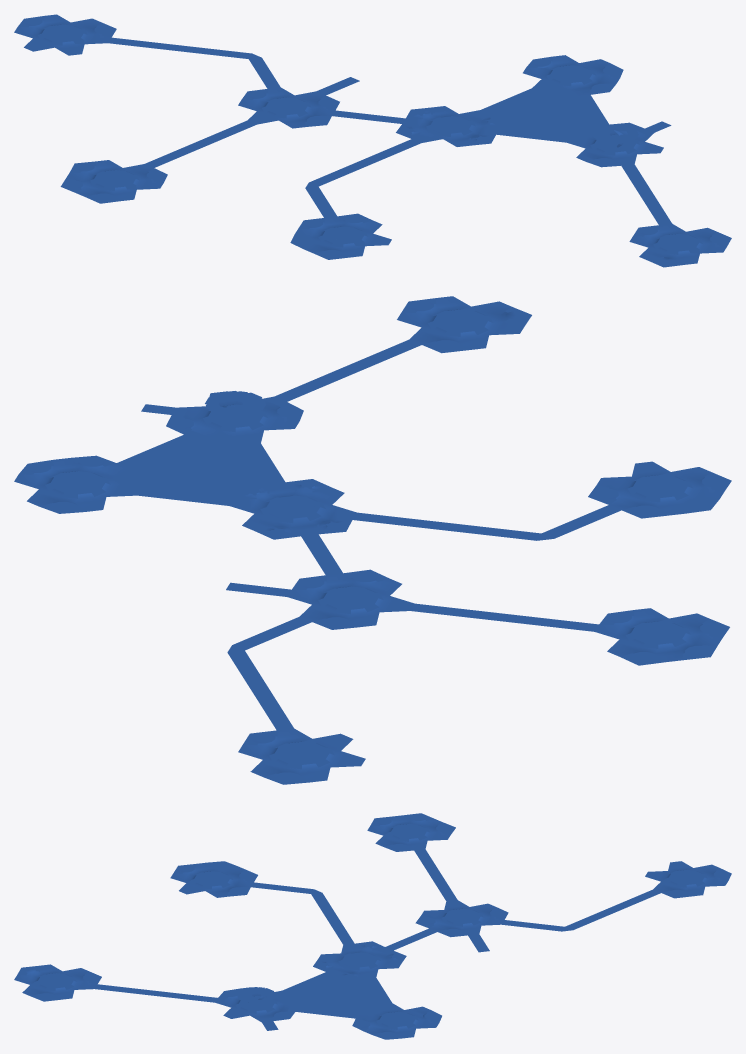
The model's file is villagea_collision.max.fbx.
3 renders of one model, top to bottom at view 1: azimuth 30°, elevation 25°; view 2: azimuth 150°, elevation 25°; view 3: azimuth 270°, elevation 25°, orthographic. The views are drawn at different scales.
Parts seen in each view (by area): view 1: col_externe, col_mairie01, col_appart03, col_appart02, col_appart01, col_bar02, col_bar01, col_appart04, Object01, col_agora01, col_pont13, col_pont12 (+5 smaller); view 2: col_externe, col_mairie01, col_appart03, col_appart02, col_appart01, col_bar02, col_bar01, col_appart04, col_agora01, Object01, col_pont13, col_pont12 (+4 smaller); view 3: col_externe, col_mairie01, col_appart03, col_appart02, col_appart01, col_bar02, col_bar01, col_appart04, col_agora01, Object01, col_pont13, col_pont12 (+1 smaller).
Part boxes in pixels (bbox=[...]): col_externe: bbox=[16, 15, 731, 267]; col_mairie01: bbox=[399, 106, 502, 146]; col_appart03: bbox=[66, 160, 163, 200]; col_appart02: bbox=[294, 216, 391, 257]; col_appart01: bbox=[629, 223, 726, 264]; col_bar02: bbox=[523, 55, 619, 96]; col_bar01: bbox=[238, 87, 335, 128]; col_appart04: bbox=[14, 14, 111, 55]; Object01: bbox=[305, 139, 420, 217]; col_agora01: bbox=[576, 126, 654, 164]; col_pont13: bbox=[108, 37, 261, 64]; col_pont12: bbox=[621, 164, 671, 224]; col_externe: bbox=[16, 296, 731, 784]; col_mairie01: bbox=[229, 479, 356, 536]; col_appart03: bbox=[594, 608, 722, 661]; col_appart02: bbox=[597, 461, 723, 515]; col_appart01: bbox=[397, 296, 526, 350]; col_bar02: bbox=[14, 457, 141, 511]; col_bar01: bbox=[287, 573, 414, 627]; col_appart04: bbox=[238, 728, 365, 782]; col_agora01: bbox=[175, 397, 296, 439]; Object01: bbox=[353, 505, 620, 540]; col_pont13: bbox=[227, 645, 293, 730]; col_pont12: bbox=[274, 339, 421, 401]; col_externe: bbox=[15, 813, 731, 1039]; col_mairie01: bbox=[315, 941, 404, 979]; col_appart03: bbox=[367, 815, 450, 850]; col_appart02: bbox=[170, 862, 253, 897]; col_appart01: bbox=[14, 964, 97, 999]; col_bar02: bbox=[356, 1003, 438, 1038]; col_bar01: bbox=[421, 900, 504, 935]; col_appart04: bbox=[645, 861, 727, 896]; col_agora01: bbox=[223, 990, 290, 1018]; Object01: bbox=[251, 882, 354, 944]; col_pont13: bbox=[554, 889, 660, 931]; col_pont12: bbox=[95, 984, 217, 1002].
Size of the model in its own units: 361 by 7.02 by 484.
